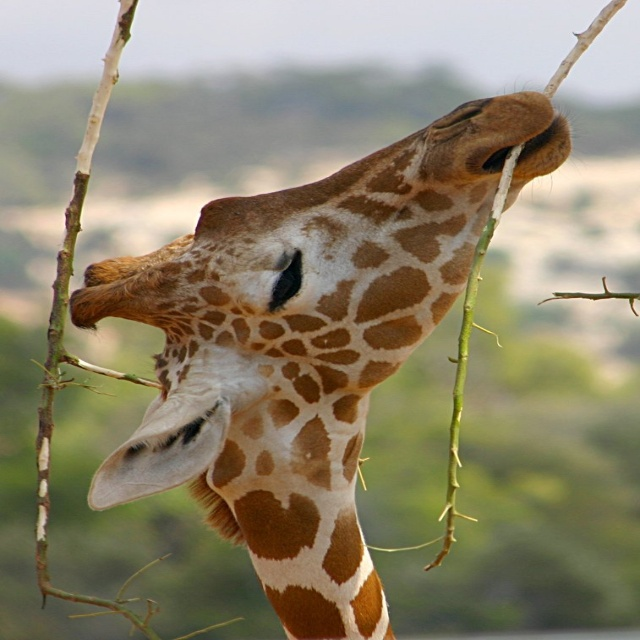Giraffe: (48, 62, 589, 630)
